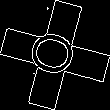O_E: (25, 27, 85, 83)
